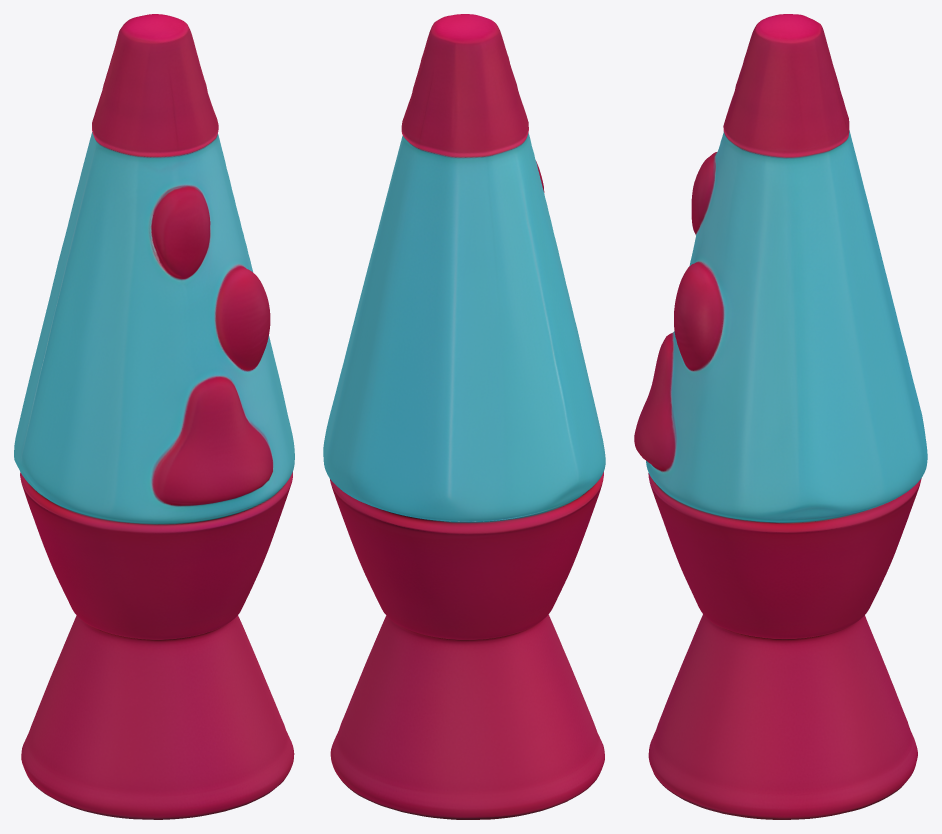
File: lava_Lamp.glb
3 views of the same model, side by side, from view 1: azimuth 30°, elevation 25°; view 2: azimuth 150°, elevation 25°; view 3: azimuth 270°, elevation 25° (orthographic).
Visible parts, largest first — view 1: model; view 2: model; view 3: model.
Boxes of the visible parts, x1=… form: model: x1=14, y1=14, x2=294, y2=819; model: x1=323, y1=14, x2=605, y2=819; model: x1=634, y1=14, x2=927, y2=819.
Size of the model in its own units: 0.6653 by 1.91 by 0.6797.
1 material, 1 textured.
